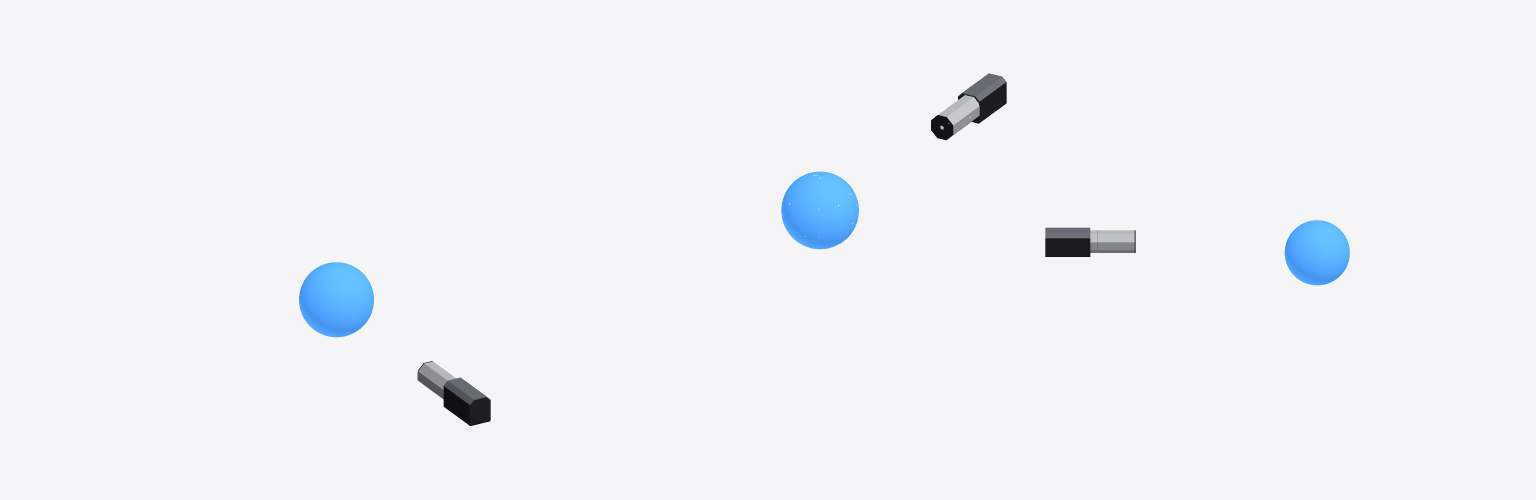
Rendered from airlock.glb.
3 views of the same model, side by side, from view 1: azimuth 30°, elevation 25°; view 2: azimuth 150°, elevation 25°; view 3: azimuth 270°, elevation 25° (orthographic). The views are drawn at different scales.
Visible parts, largest first — view 1: Space_Planet, Airlock_Shell, Space_Stars, Chamber_Shell; view 2: Space_Planet, Airlock_Shell, Space_Stars, Chamber_Shell; view 3: Space_Planet, Airlock_Shell, Space_Stars, Chamber_Shell.
Part boxes in pixels (<box>): Space_Planet: <box>299,262,373,337</box>; Airlock_Shell: <box>443,377,490,425</box>; Space_Stars: <box>14,14,489,485</box>; Chamber_Shell: <box>418,361,448,394</box>; Space_Planet: <box>781,171,858,249</box>; Airlock_Shell: <box>958,73,1006,123</box>; Space_Stars: <box>519,15,1016,485</box>; Chamber_Shell: <box>938,103,969,137</box>; Space_Planet: <box>1284,220,1349,285</box>; Airlock_Shell: <box>1045,227,1090,256</box>; Space_Stars: <box>1342,14,1521,485</box>; Chamber_Shell: <box>1107,230,1134,252</box>.
Bounding box in the file's own units: 73.3 × 58.19 × 73.05.
